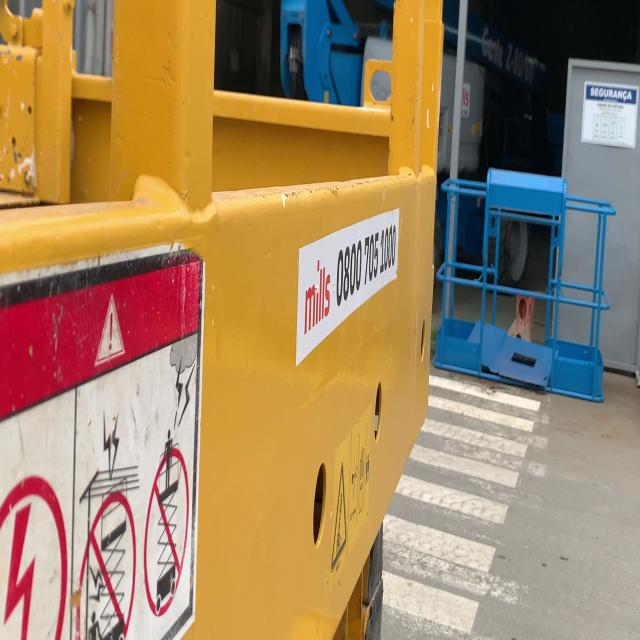Adesivo Longo: (294, 204, 401, 374)
